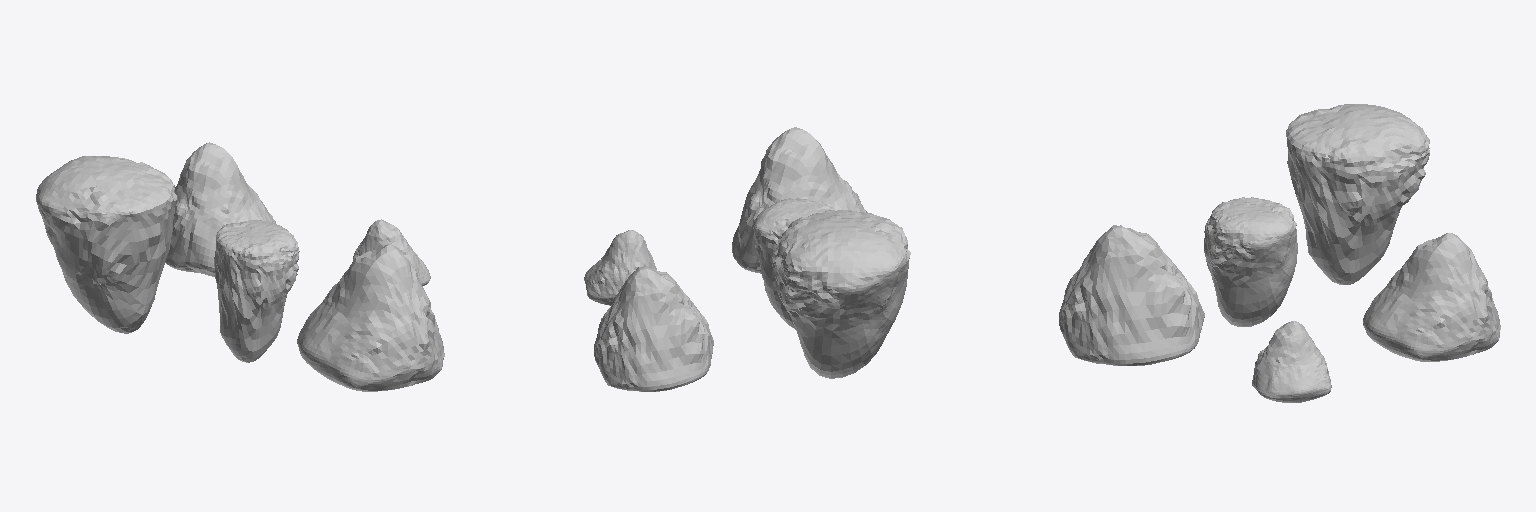
Rendered from rocks.obj.
The picture shows the model from 3 angles: view 1: azimuth 30°, elevation 25°; view 2: azimuth 150°, elevation 25°; view 3: azimuth 270°, elevation 25°; orthographic projection.
Visible parts, largest first — view 1: rocks; view 2: rocks; view 3: rocks.
Part boxes in pixels (x1,y1,x2,y2): rocks: (36, 142, 444, 391); rocks: (584, 127, 910, 391); rocks: (1059, 104, 1500, 402).
Size of the model in its own units: 28.19 by 13.11 by 31.3.